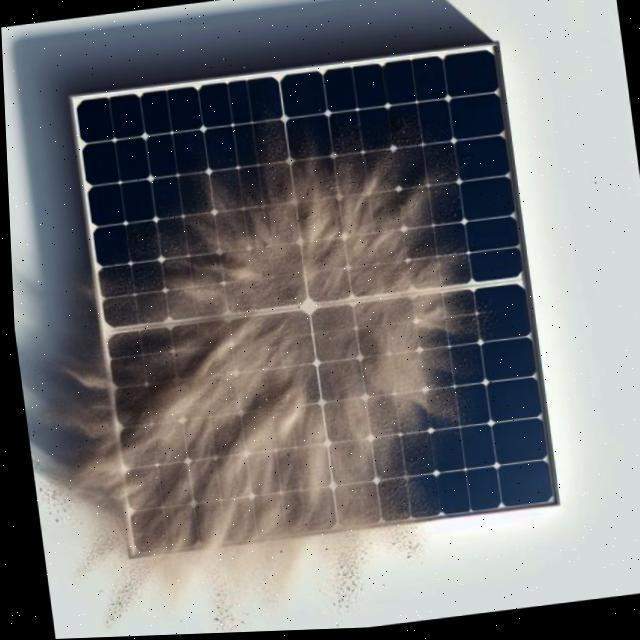Anomaly Solar Panel: (71, 50, 552, 557)
Surface Contaminant: (80, 88, 516, 556)
